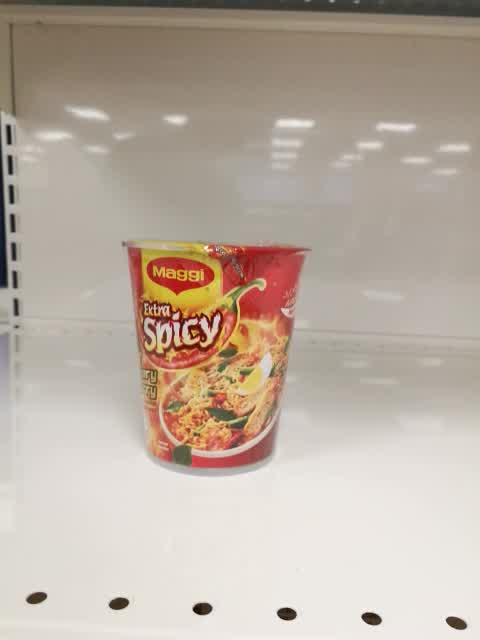maggi: (122, 236, 314, 477)
